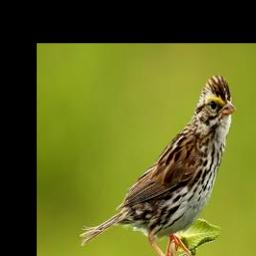Sparrow: (78, 68, 236, 256)
